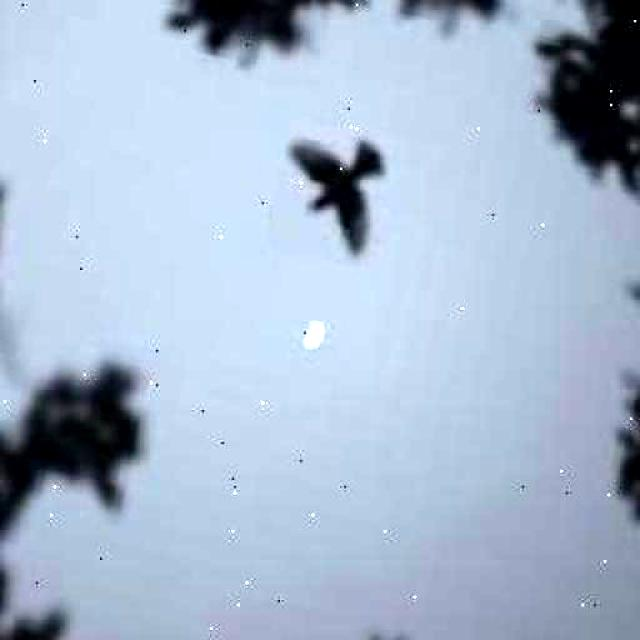airplane: (264, 119, 394, 269)
